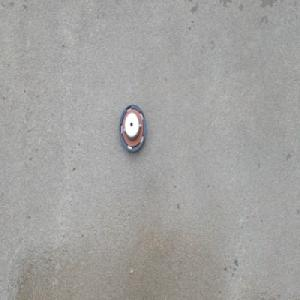FuelCap: (118, 103, 147, 155)
